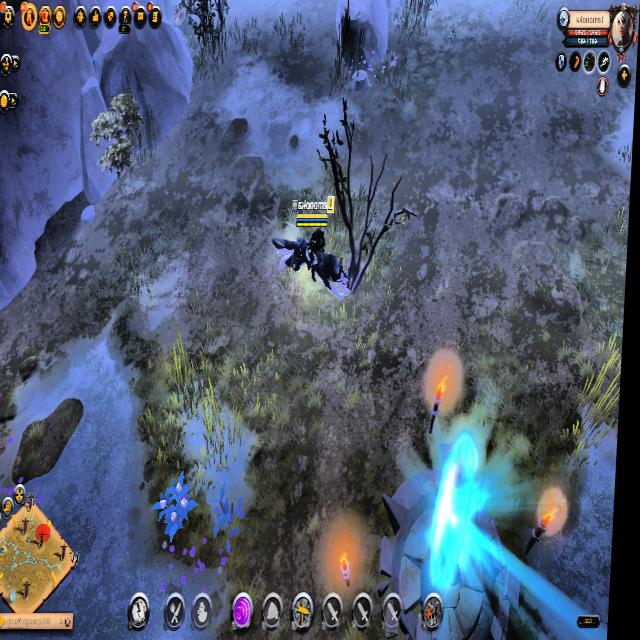fiber tier 4: (155, 467, 203, 546)
ore tier 2: (581, 606, 615, 640)
